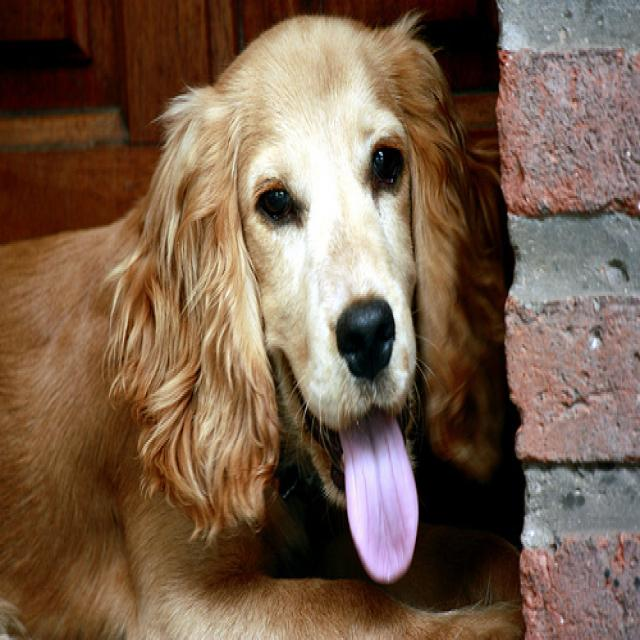dog-english_cocker_spaniel: (1, 2, 530, 636)
